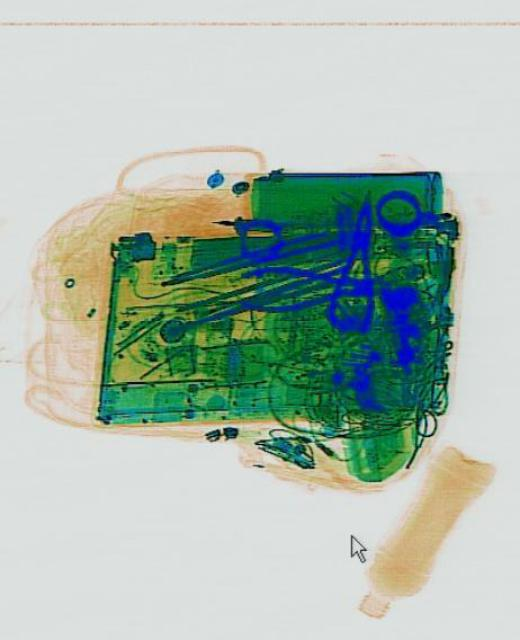Pliers: (320, 184, 389, 334), (239, 264, 375, 310)
